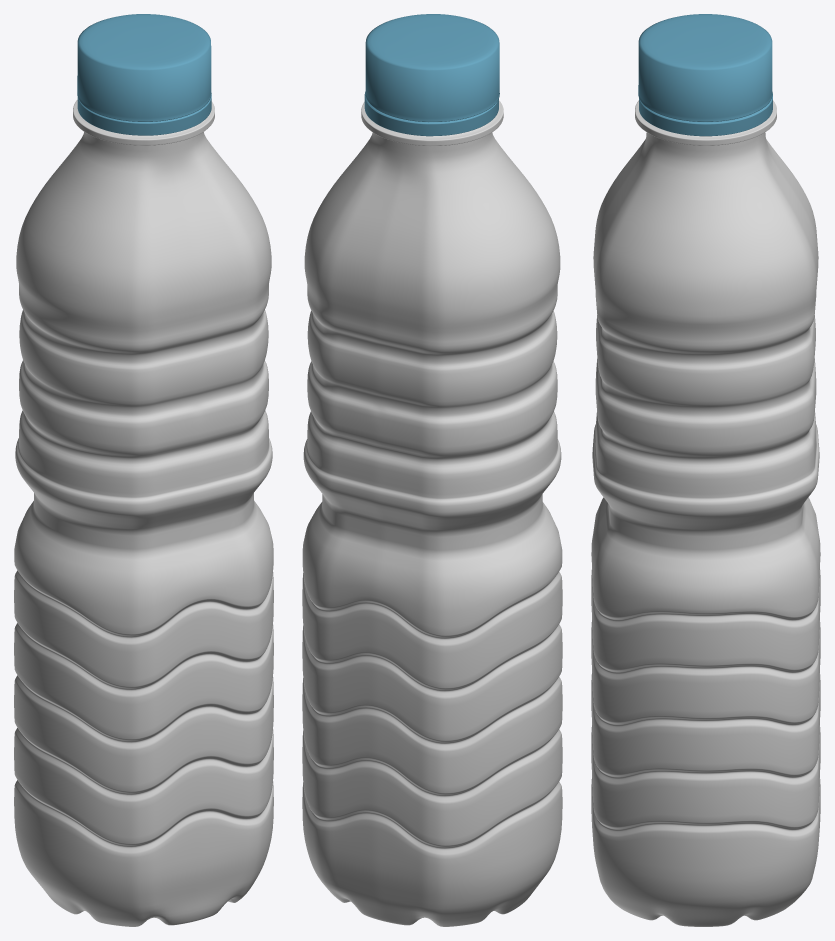
The picture shows the model from 3 angles, left to right: view 1: azimuth 30°, elevation 25°; view 2: azimuth 150°, elevation 25°; view 3: azimuth 270°, elevation 25°; orthographic projection.
Visible parts, largest first — view 1: Bottiglia_0, Tappo_1, Tappo.001_2; view 2: Bottiglia_0, Tappo_1, Tappo.001_2; view 3: Bottiglia_0, Tappo_1, Tappo.001_2.
Boxes of the visible parts, bbox=[...] form: Bottiglia_0: bbox=[14, 100, 273, 926]; Tappo_1: bbox=[77, 14, 211, 121]; Tappo.001_2: bbox=[77, 94, 211, 135]; Bottiglia_0: bbox=[302, 100, 562, 926]; Tappo_1: bbox=[365, 14, 499, 121]; Tappo.001_2: bbox=[364, 91, 498, 136]; Bottiglia_0: bbox=[591, 100, 820, 926]; Tappo_1: bbox=[638, 14, 772, 121]; Tappo.001_2: bbox=[639, 93, 772, 136].
Size of the model in its own units: 0.3155 by 1.13 by 0.2783.
